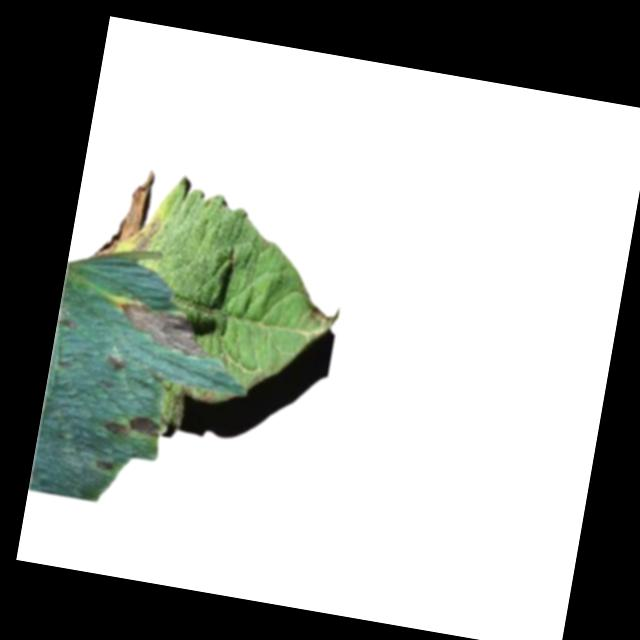Early_blight: (93, 164, 166, 269), (112, 298, 213, 361), (102, 410, 163, 441), (105, 353, 125, 373)
